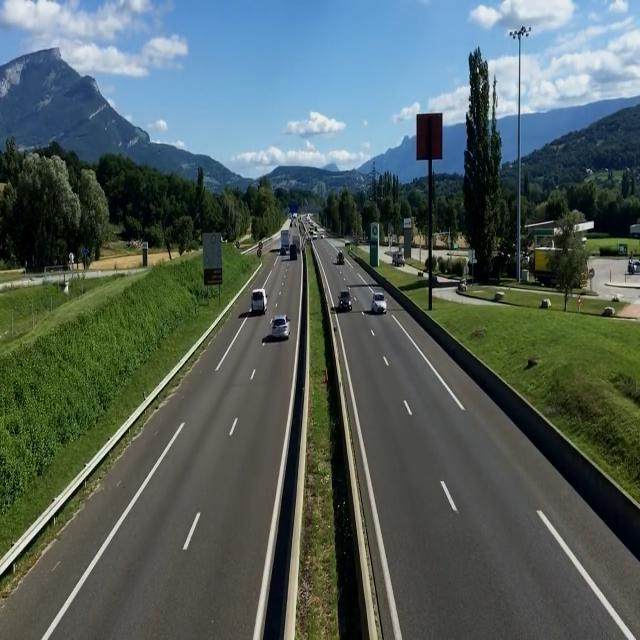Car: (271, 314, 292, 341), (370, 292, 389, 314), (338, 292, 352, 311)
Van: (252, 288, 270, 314)
